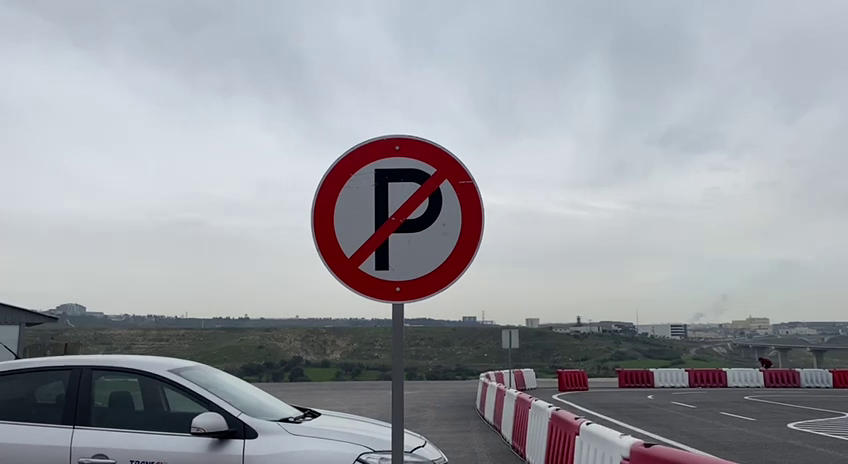noparking: (305, 128, 487, 309)
